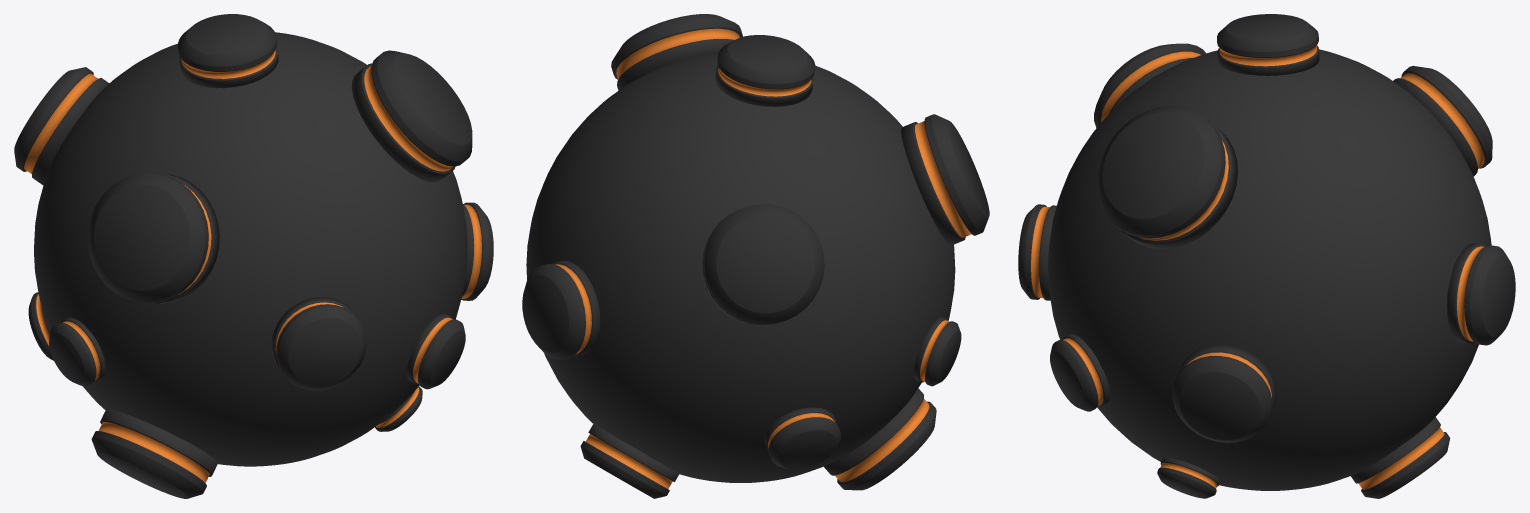
File: Mine.glb
3 views of the same model, side by side, from view 1: azimuth 30°, elevation 25°; view 2: azimuth 150°, elevation 25°; view 3: azimuth 270°, elevation 25° (orthographic). The views are drawn at different scales.
Visible parts, largest first — view 1: Mine; view 2: Mine; view 3: Mine.
Part boxes in pixels (box(x1,y1,x2,y2)): Mine: box(14, 14, 493, 498); Mine: box(522, 14, 989, 498); Mine: box(1018, 14, 1515, 498).
Size of the model in its own units: 2.2 by 2.18 by 2.21.
